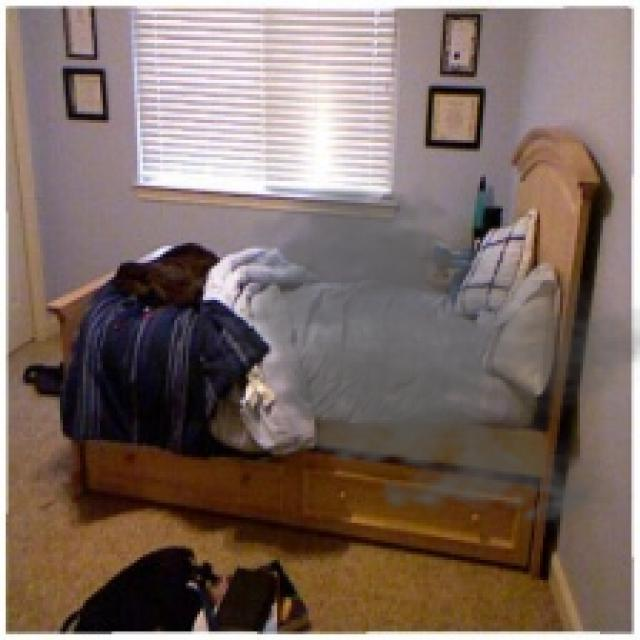smoke: (214, 180, 637, 537)
